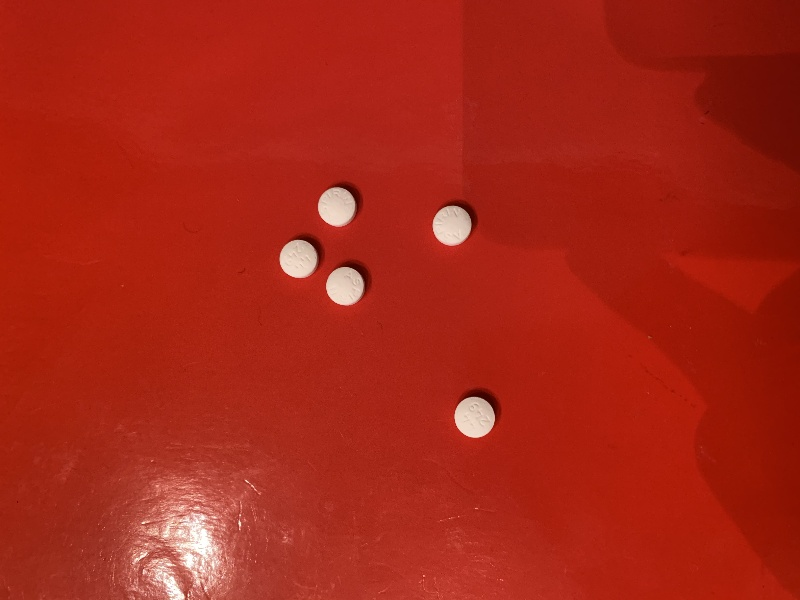Aspirin: (449, 393, 503, 441), (313, 182, 361, 232), (431, 200, 475, 249), (275, 236, 321, 280), (324, 264, 369, 307)
